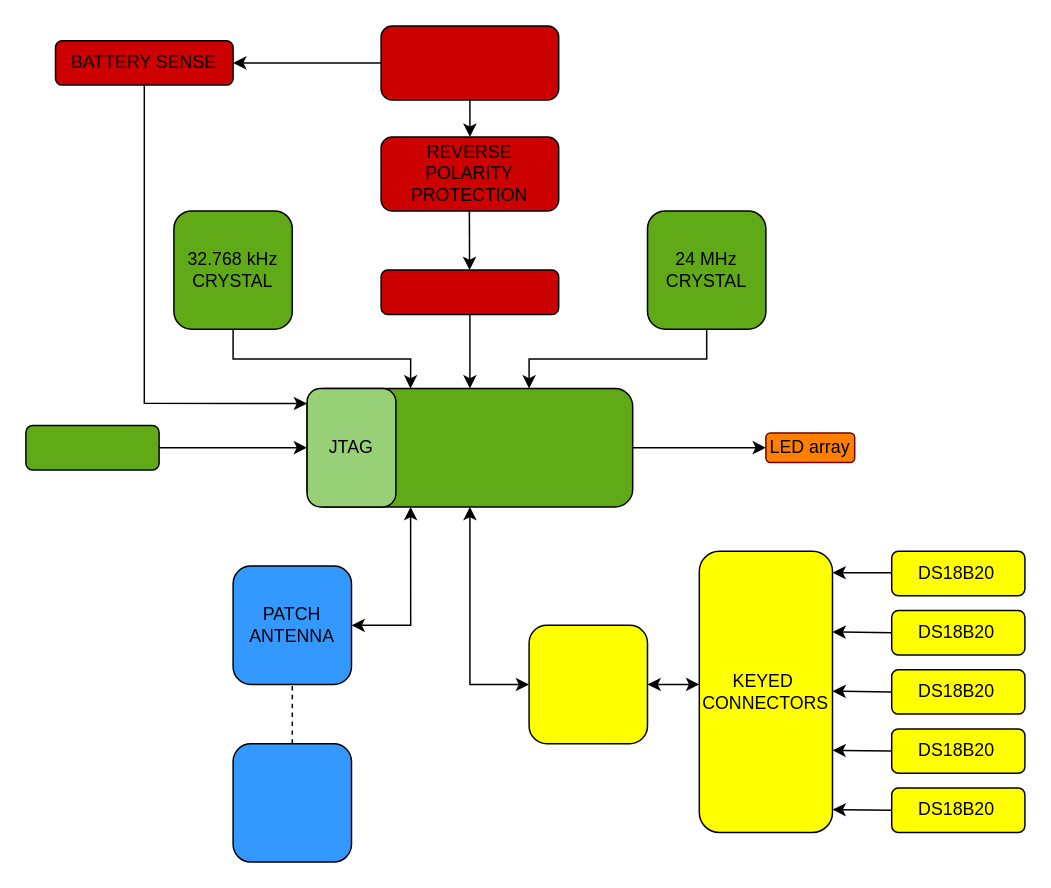
The diagram is 1051 pixels wide and 888 high, and some of its shapes have lost their labels. The shapes that lost their labels are listed below. From the top down, each one's box as (x1, y1, x2, y2) in pixels, then its label:
(380, 24, 559, 100): 2 x AA LITHIUM (PCB Battery Holder)
(380, 269, 559, 314): BUCK BOOST 3.3 V
(24, 424, 159, 470): RESET
(306, 387, 633, 507): MCU
(528, 624, 648, 744): 1 Wire bus
(232, 742, 352, 862): APP
